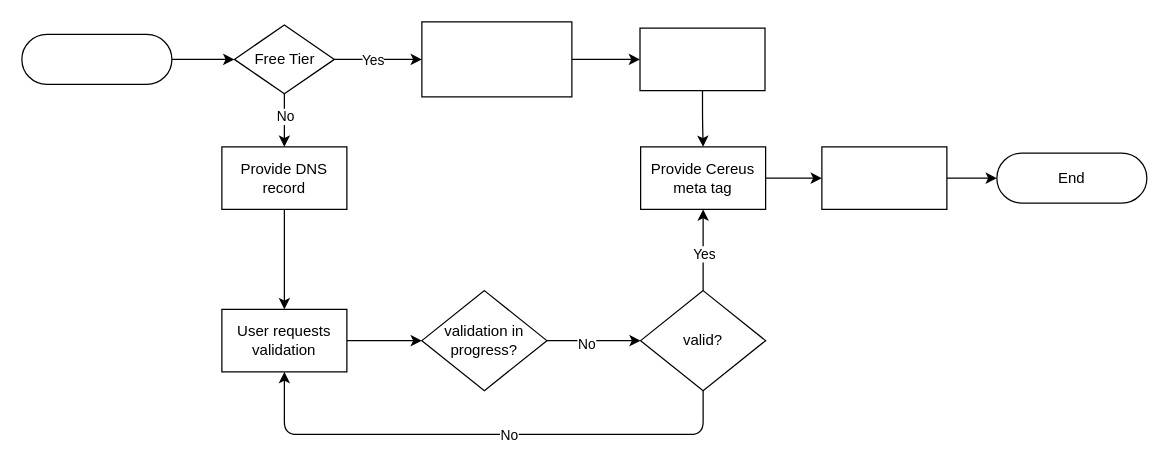
Image size: 1169x466. Some labels were removed from this diagram. Here are the shapes that lost their labels. From the top down, the centre of each, then its label:
At point (96, 58): "New Property Request".
At point (496, 59): "Send confirmation to email matching domain".
At point (702, 59): "User confirms domain".
At point (884, 177): "Property Confirmed".
